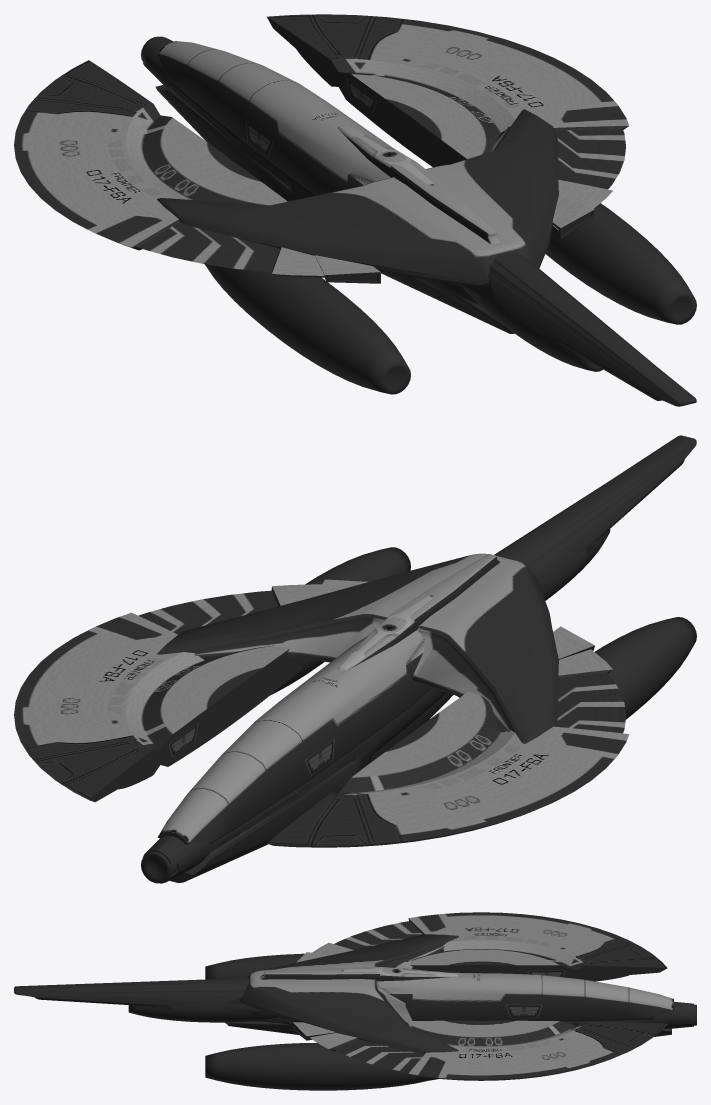
File: starship_copernicus.fbx
3 views of the same model, one above another, from view 1: azimuth 30°, elevation 25°; view 2: azimuth 150°, elevation 25°; view 3: azimuth 270°, elevation 25° (orthographic). The views are drawn at different scales.
Parts seen in each view (by area): view 1: polySurface23; view 2: polySurface23; view 3: polySurface23.
Part boxes in pixels (<box>): polySurface23: <box>14,14,696,406</box>; polySurface23: <box>14,435,696,883</box>; polySurface23: <box>14,912,696,1090</box>.
Size of the model in its own units: 488 by 118 by 842.
